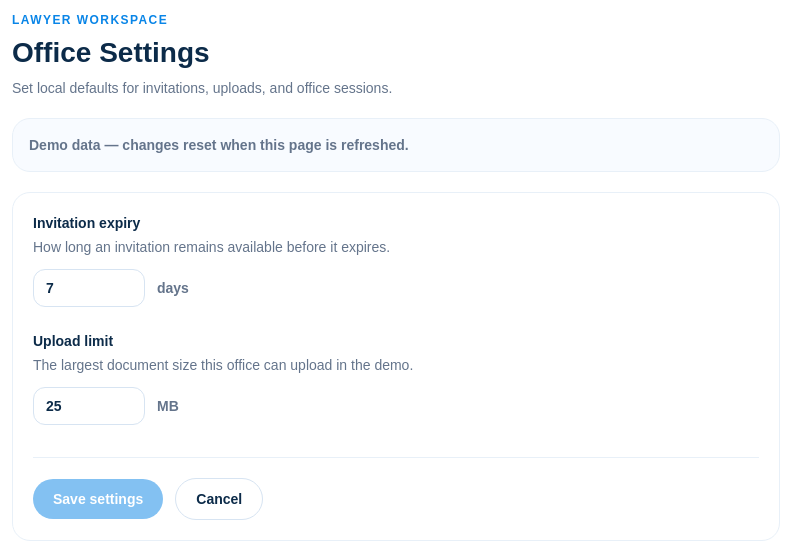
Test: OfficeSettingsPage › identifies valid local changes before they are saved
Replace the text in the number field labelled "Invitation expiry" with "8" at [89, 288], box [33,269,145,307]
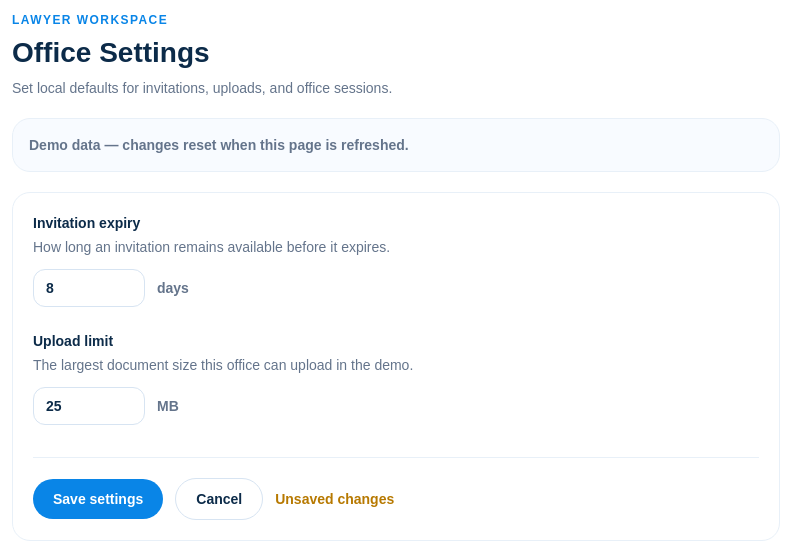
Expected: the message reads "Unsaved changes", [275,491,394,507]
